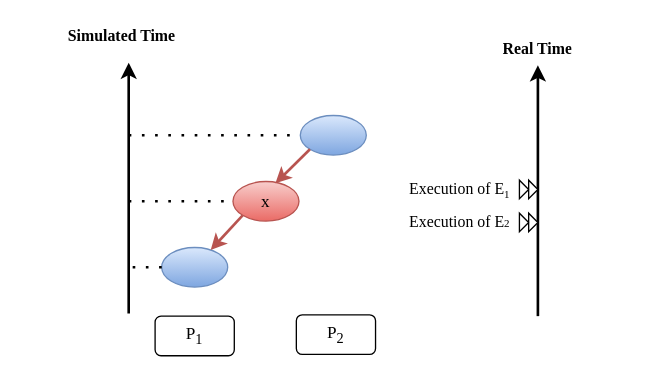
Image size: 659x379. Some labels were removed from this diagram. The box of each missing label's shape, as (x1, y1, x2, y2) in pixels:
E 1: (160, 246, 228, 287)
E 2: (299, 114, 366, 155)
